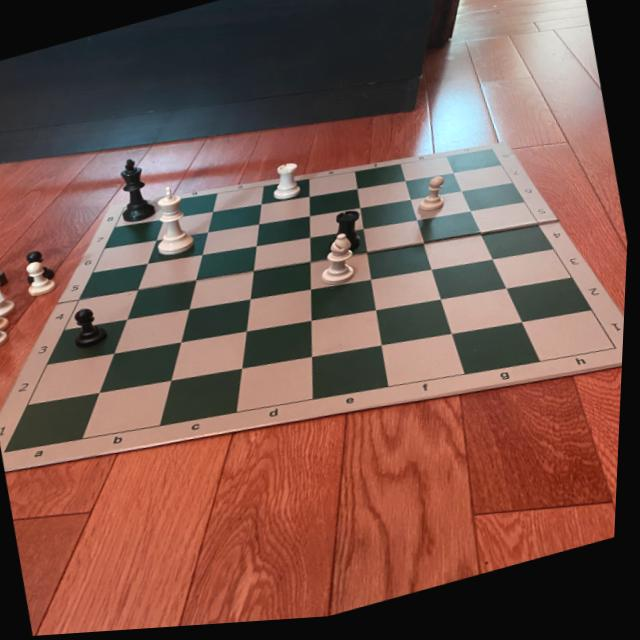Chessboard-Corners: (601, 347, 627, 368), (119, 202, 136, 216), (4, 442, 17, 457), (487, 152, 500, 162)
